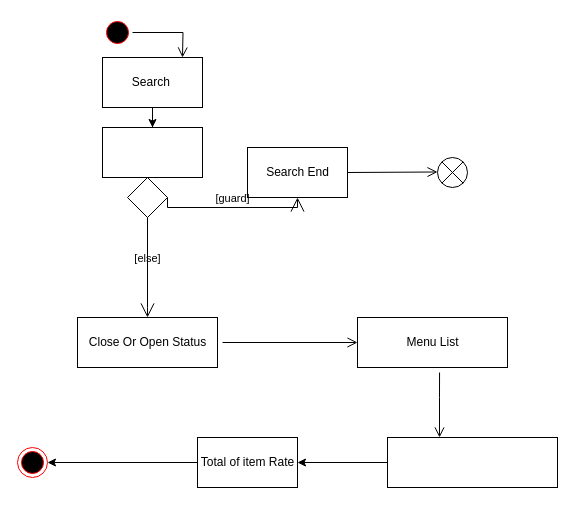
Image size: 575x505. Some labels were removed from this diagram. The centre of each missing label's shape, as x and y in pixels:
"Add Item to Cart" goes at (x=472, y=462).
"Search Found" goes at (x=152, y=152).
